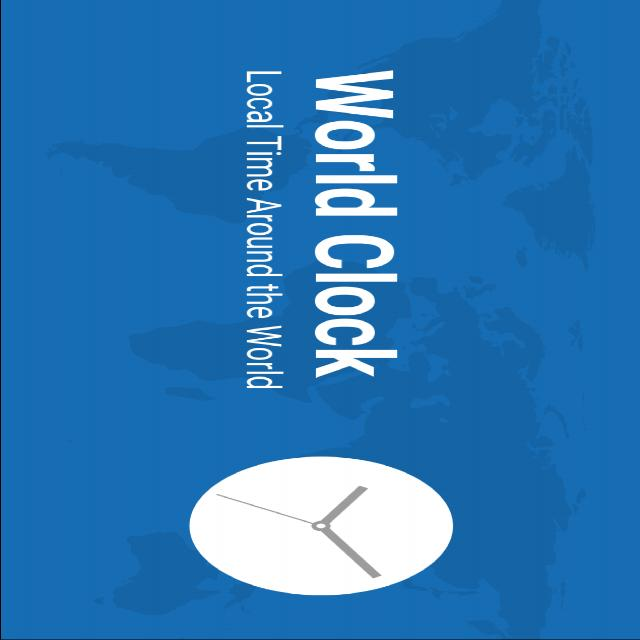clock: (124, 422, 534, 630)
